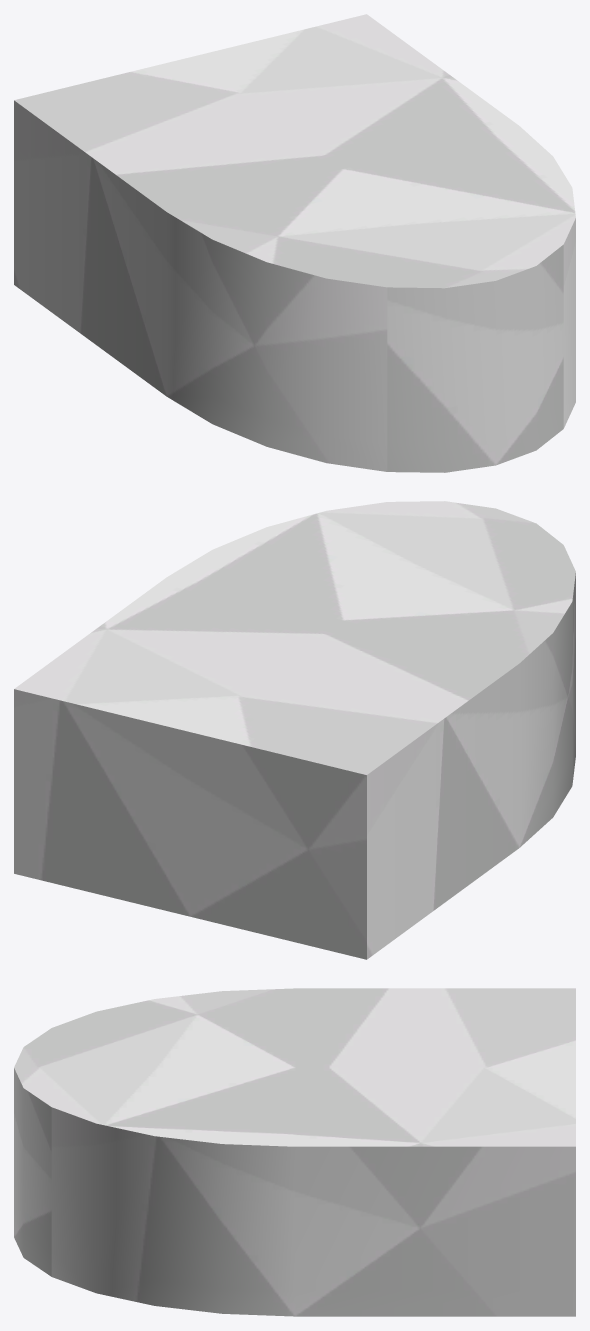
The model's file is Bullet.obj.
3 renders of one model, top to bottom at view 1: azimuth 30°, elevation 25°; view 2: azimuth 150°, elevation 25°; view 3: azimuth 270°, elevation 25°, orthographic. The views are drawn at different scales.
Parts seen in each view (by area): view 1: block_round_0; view 2: block_round_0; view 3: block_round_0.
Boxes of the visible parts, box(x1,y1,x2,y2) form: block_round_0: box(14, 14, 575, 472); block_round_0: box(14, 501, 575, 959); block_round_0: box(14, 988, 575, 1316).
Size of the model in its own units: 0.4 by 0.2 by 0.6.
Materials: 1 (1 with a texture image).
